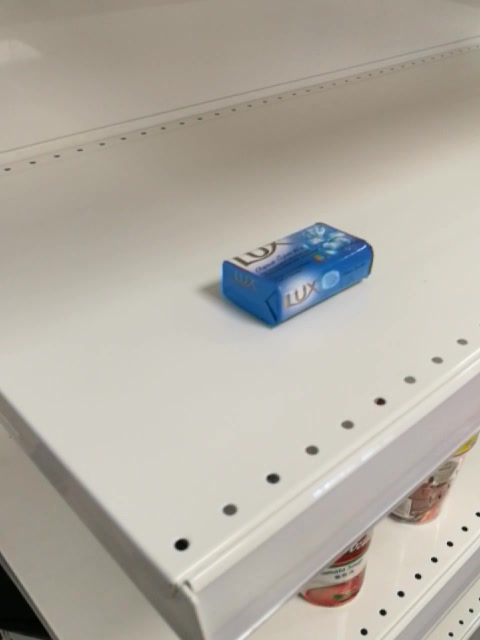soap: (219, 221, 374, 328)
